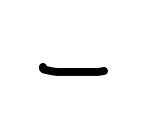minus: (38, 63, 108, 76)
